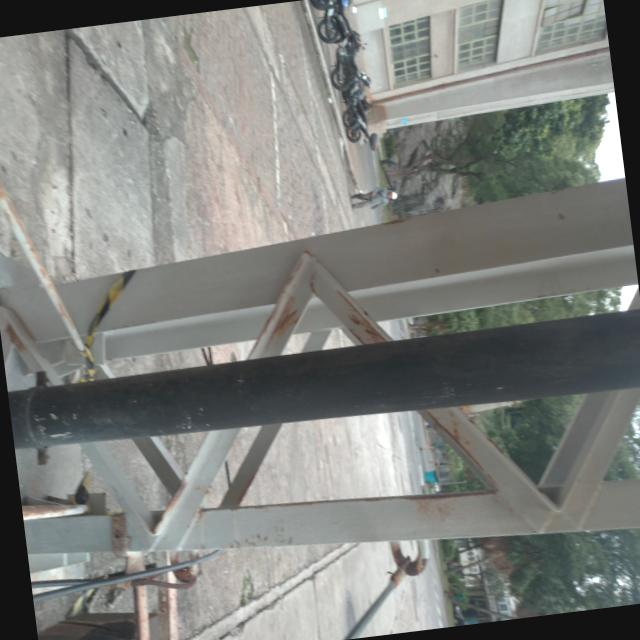gas: (12, 311, 640, 451)
